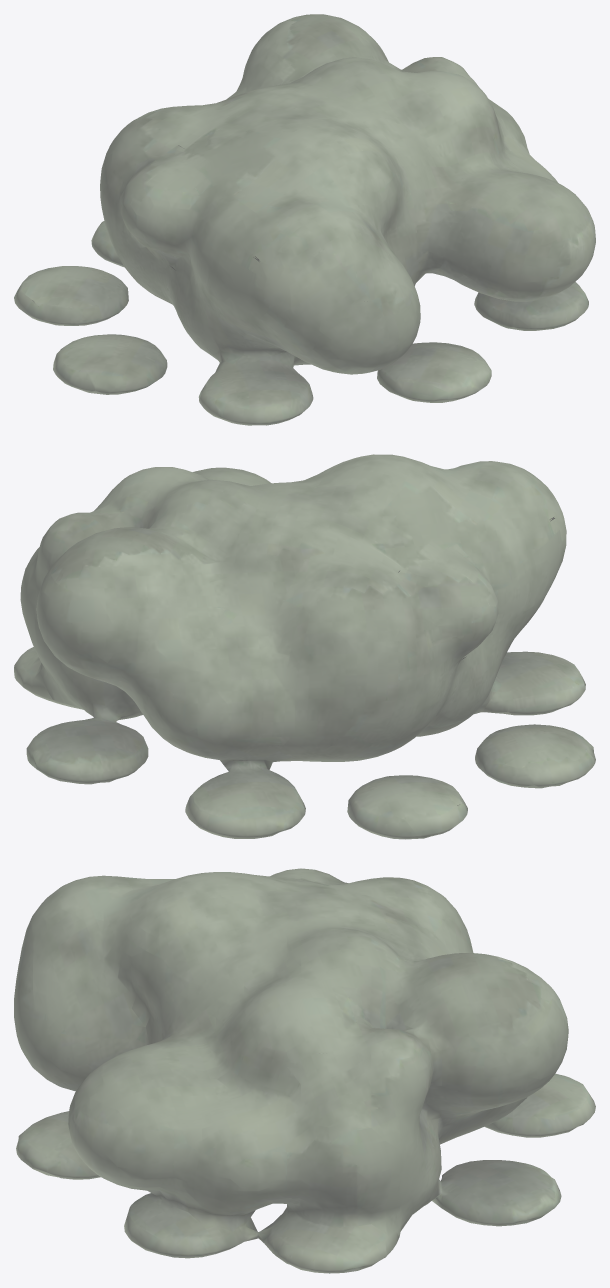
The model's file is weeper_body.glb.
3 views of the same model, one above another, from view 1: azimuth 30°, elevation 25°; view 2: azimuth 150°, elevation 25°; view 3: azimuth 270°, elevation 25° (orthographic). The views are drawn at different scales.
Parts seen in each view (by area): view 1: weeper_body; view 2: weeper_body; view 3: weeper_body.
Part boxes in pixels (x1=…): weeper_body: x1=14, y1=14, x2=595, y2=425; weeper_body: x1=14, y1=454, x2=595, y2=839; weeper_body: x1=14, y1=868, x2=595, y2=1273.
Bounding box in the file's own units: 3.2 × 1.4 × 2.89.
Materials: 1 (1 with a texture image).
